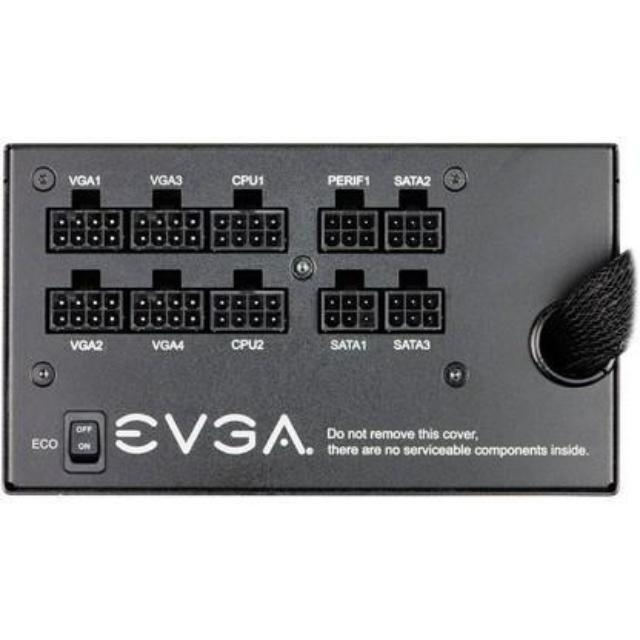PSU: (0, 127, 628, 516)
